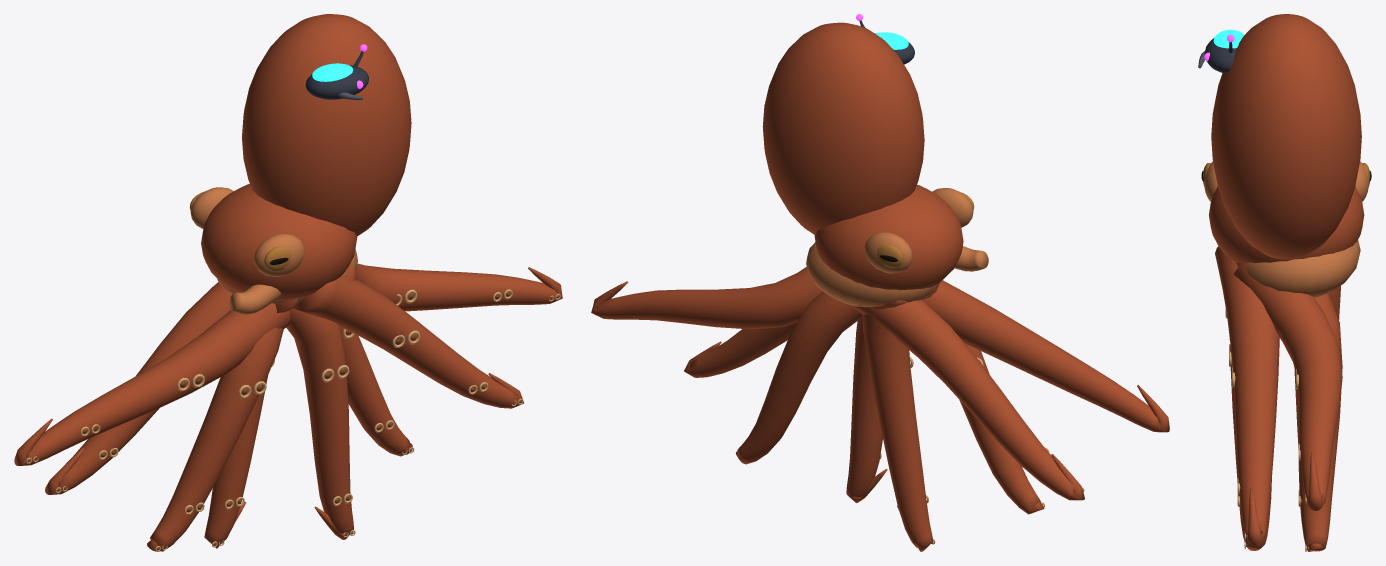
File: controlled_octopus.glb
3 renders of one model, left to right at view 1: azimuth 30°, elevation 25°; view 2: azimuth 150°, elevation 25°; view 3: azimuth 270°, elevation 25°, orthographic. The views are drawn at different scales.
Visible parts, largest first — view 1: Mantle, ArmSkin, Head, ArmSkin.006, ArmSkin.004, ArmSkin.002, ArmSkin.007, ArmSkin.001, ArmSkin.005, ArmSkin.003, EyeLid, ControlShell (+2 smaller); view 2: Mantle, ArmSkin.001, ArmSkin, Head, ArmSkin.007, ArmSkin.003, ArmSkin.005, ArmSkin.004, ArmSkin.006, ArmSkin.002, VentralWeb, EyeLid.001 (+1 smaller); view 3: Mantle, ArmSkin.006, ArmSkin.007, VentralWeb, Head, ArmSkin.005, ControlShell, ArmSkin.004, ArmSkin.003, CyanLens, EyeLid, EyeLid.001.
Part boxes in pixels (bbox=[...]): Mantle: bbox=[242, 14, 411, 236]; ArmSkin: bbox=[14, 303, 290, 465]; Head: bbox=[201, 184, 357, 301]; ArmSkin.006: bbox=[293, 276, 523, 408]; ArmSkin.004: bbox=[286, 308, 353, 539]; ArmSkin.002: bbox=[147, 327, 283, 551]; ArmSkin.007: bbox=[346, 263, 562, 311]; ArmSkin.001: bbox=[45, 282, 231, 494]; ArmSkin.005: bbox=[275, 298, 412, 456]; ArmSkin.003: bbox=[204, 375, 268, 548]; EyeLid: bbox=[254, 233, 304, 276]; ControlShell: bbox=[305, 65, 368, 99]; Mantle: bbox=[762, 22, 924, 234]; ArmSkin.001: bbox=[849, 299, 1084, 500]; ArmSkin: bbox=[926, 280, 1169, 432]; Head: bbox=[814, 184, 963, 290]; ArmSkin.007: bbox=[591, 267, 822, 329]; ArmSkin.003: bbox=[862, 300, 933, 551]; ArmSkin.005: bbox=[736, 291, 862, 464]; ArmSkin.004: bbox=[846, 283, 939, 502]; ArmSkin.006: bbox=[684, 322, 796, 377]; ArmSkin.002: bbox=[858, 298, 1044, 514]; VentralWeb: bbox=[806, 242, 939, 307]; EyeLid.001: bbox=[864, 232, 912, 273]; Mantle: bbox=[1211, 14, 1361, 259]; ArmSkin.006: bbox=[1215, 246, 1279, 545]; ArmSkin.007: bbox=[1233, 262, 1342, 510]; VentralWeb: bbox=[1236, 240, 1360, 297]; Head: bbox=[1209, 186, 1364, 263]; ArmSkin.005: bbox=[1298, 293, 1342, 551]; ControlShell: bbox=[1204, 38, 1236, 73]; ArmSkin.004: bbox=[1230, 345, 1271, 550]; ArmSkin.003: bbox=[1294, 286, 1340, 448]; CyanLens: bbox=[1213, 29, 1244, 48]; EyeLid: bbox=[1204, 161, 1217, 201]; EyeLid.001: bbox=[1355, 161, 1368, 201].
Bounding box in the file's own units: 2.84 × 2.44 × 0.713.
